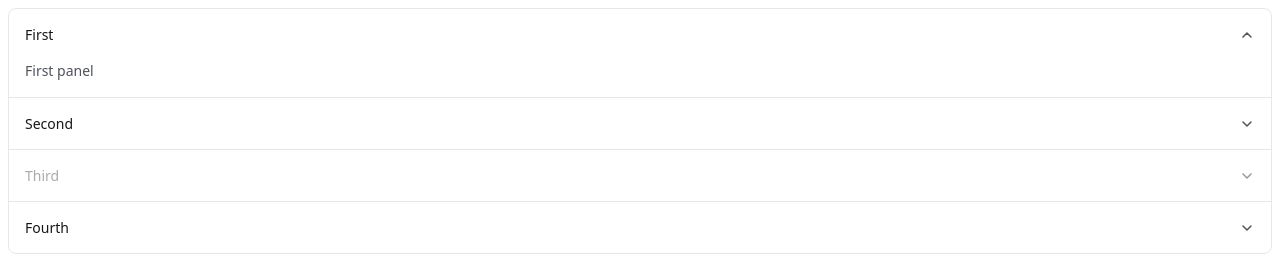
it: Accordion › closes the open panel when collapsible
This screenshot has width=1280, height=271.
Click the button "First" at {"x": 39, "y": 34}, box [9,9,1271,60]
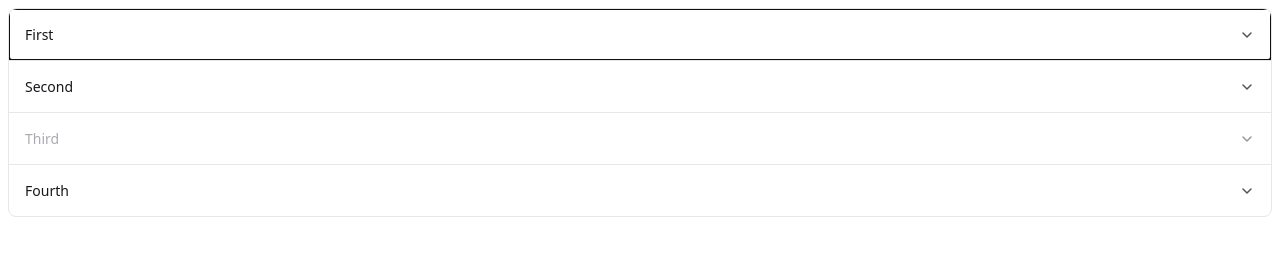
Check: the text "First panel" is gone
